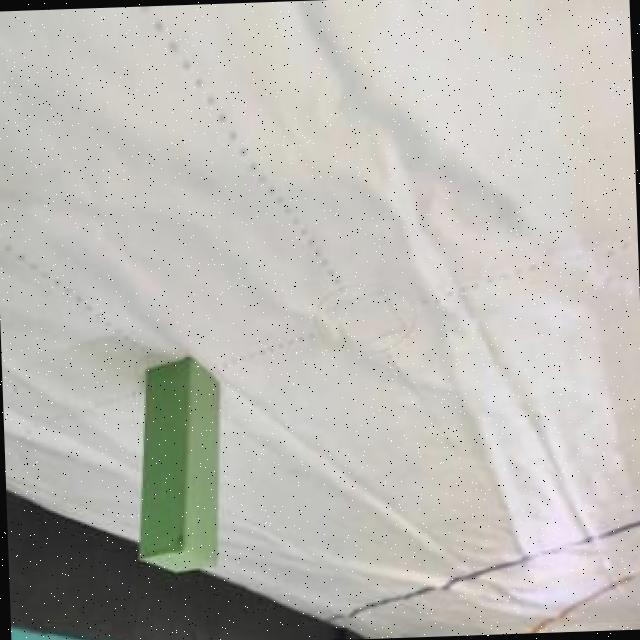greenbox: (129, 352, 225, 578)
